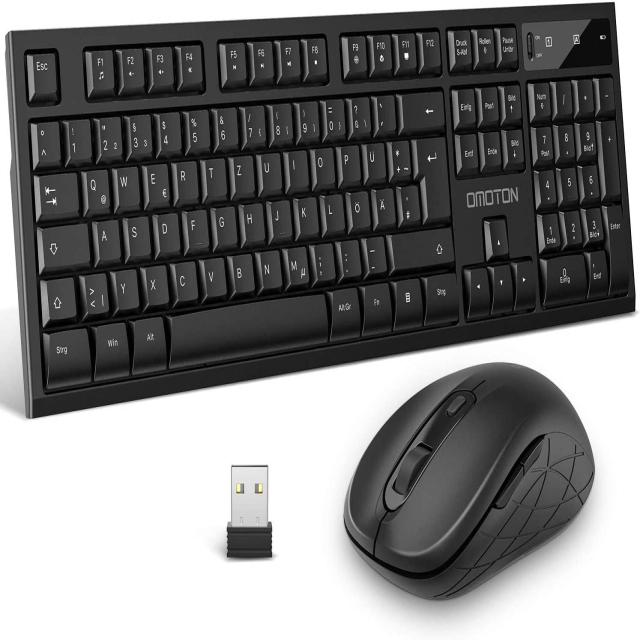0: (322, 94, 344, 138)
1: (65, 115, 91, 159)
2: (96, 113, 122, 157)
3: (126, 109, 151, 154)
4: (156, 108, 181, 152)
5: (184, 106, 209, 149)
6: (213, 103, 238, 147)
7: (242, 101, 264, 143)
8: (269, 99, 292, 142)
9: (296, 96, 318, 140)
a: (92, 215, 120, 259)
accent: (373, 91, 395, 131)
ae: (371, 183, 394, 223)
alt-left: (131, 312, 167, 371)
altgr-right: (328, 283, 360, 336)
b: (228, 249, 253, 291)
c: (172, 256, 197, 299)
caret: (29, 117, 60, 166)
comma: (311, 238, 334, 280)
d: (152, 208, 180, 251)
del: (399, 86, 444, 128)
e: (142, 158, 169, 204)
enter: (412, 132, 449, 219)
f: (182, 204, 207, 248)
g: (210, 202, 236, 244)
h: (238, 199, 264, 241)
hash: (396, 180, 419, 223)
i: (284, 145, 307, 186)
j: (266, 195, 291, 237)
k: (293, 192, 317, 234)
keyboard: (6, 2, 636, 417)
l: (319, 190, 343, 230)
less: (80, 267, 108, 313)
m: (284, 242, 308, 284)
minus: (363, 232, 385, 272)
n: (257, 245, 281, 287)
o: (310, 143, 334, 184)
oe: (346, 186, 369, 228)
p: (337, 140, 359, 182)
plus: (387, 135, 409, 178)
point: (337, 235, 360, 275)
q: (81, 164, 110, 211)
r: (172, 156, 198, 200)
s: (122, 212, 150, 256)
shift-left: (41, 273, 76, 320)
shift-lock: (37, 219, 89, 268)
shift-right: (389, 224, 452, 268)
space: (169, 288, 327, 359)
ss: (347, 92, 370, 134)
strg-left: (42, 322, 91, 389)
strg-right: (423, 268, 458, 322)
t: (201, 152, 226, 195)
tab: (34, 167, 78, 218)
u: (257, 147, 280, 190)
ue: (362, 138, 385, 180)
v: (201, 253, 226, 295)
w: (113, 161, 139, 207)
x: (143, 260, 168, 303)
y: (113, 264, 138, 308)
z: (229, 150, 253, 194)
